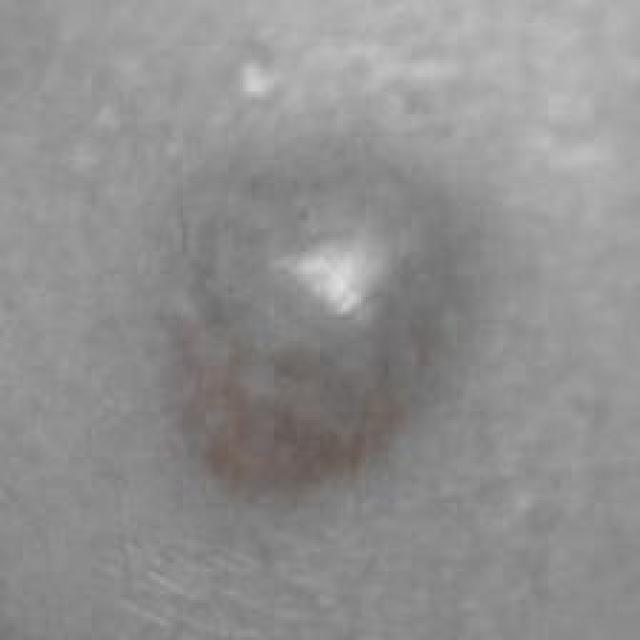monkeypox: (90, 129, 552, 586)
